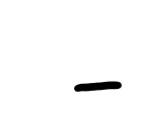minus: (74, 81, 122, 92)
